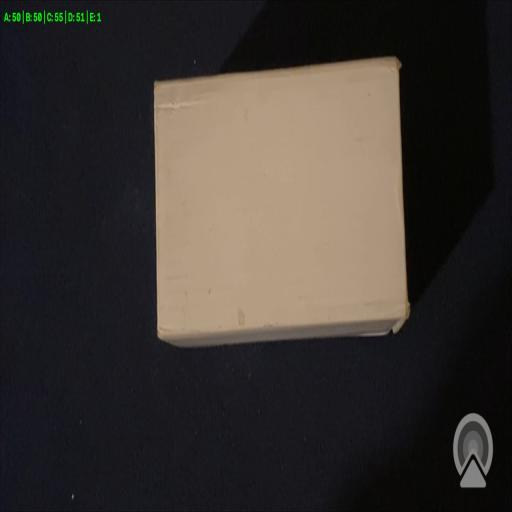Caja: (152, 55, 410, 348)
